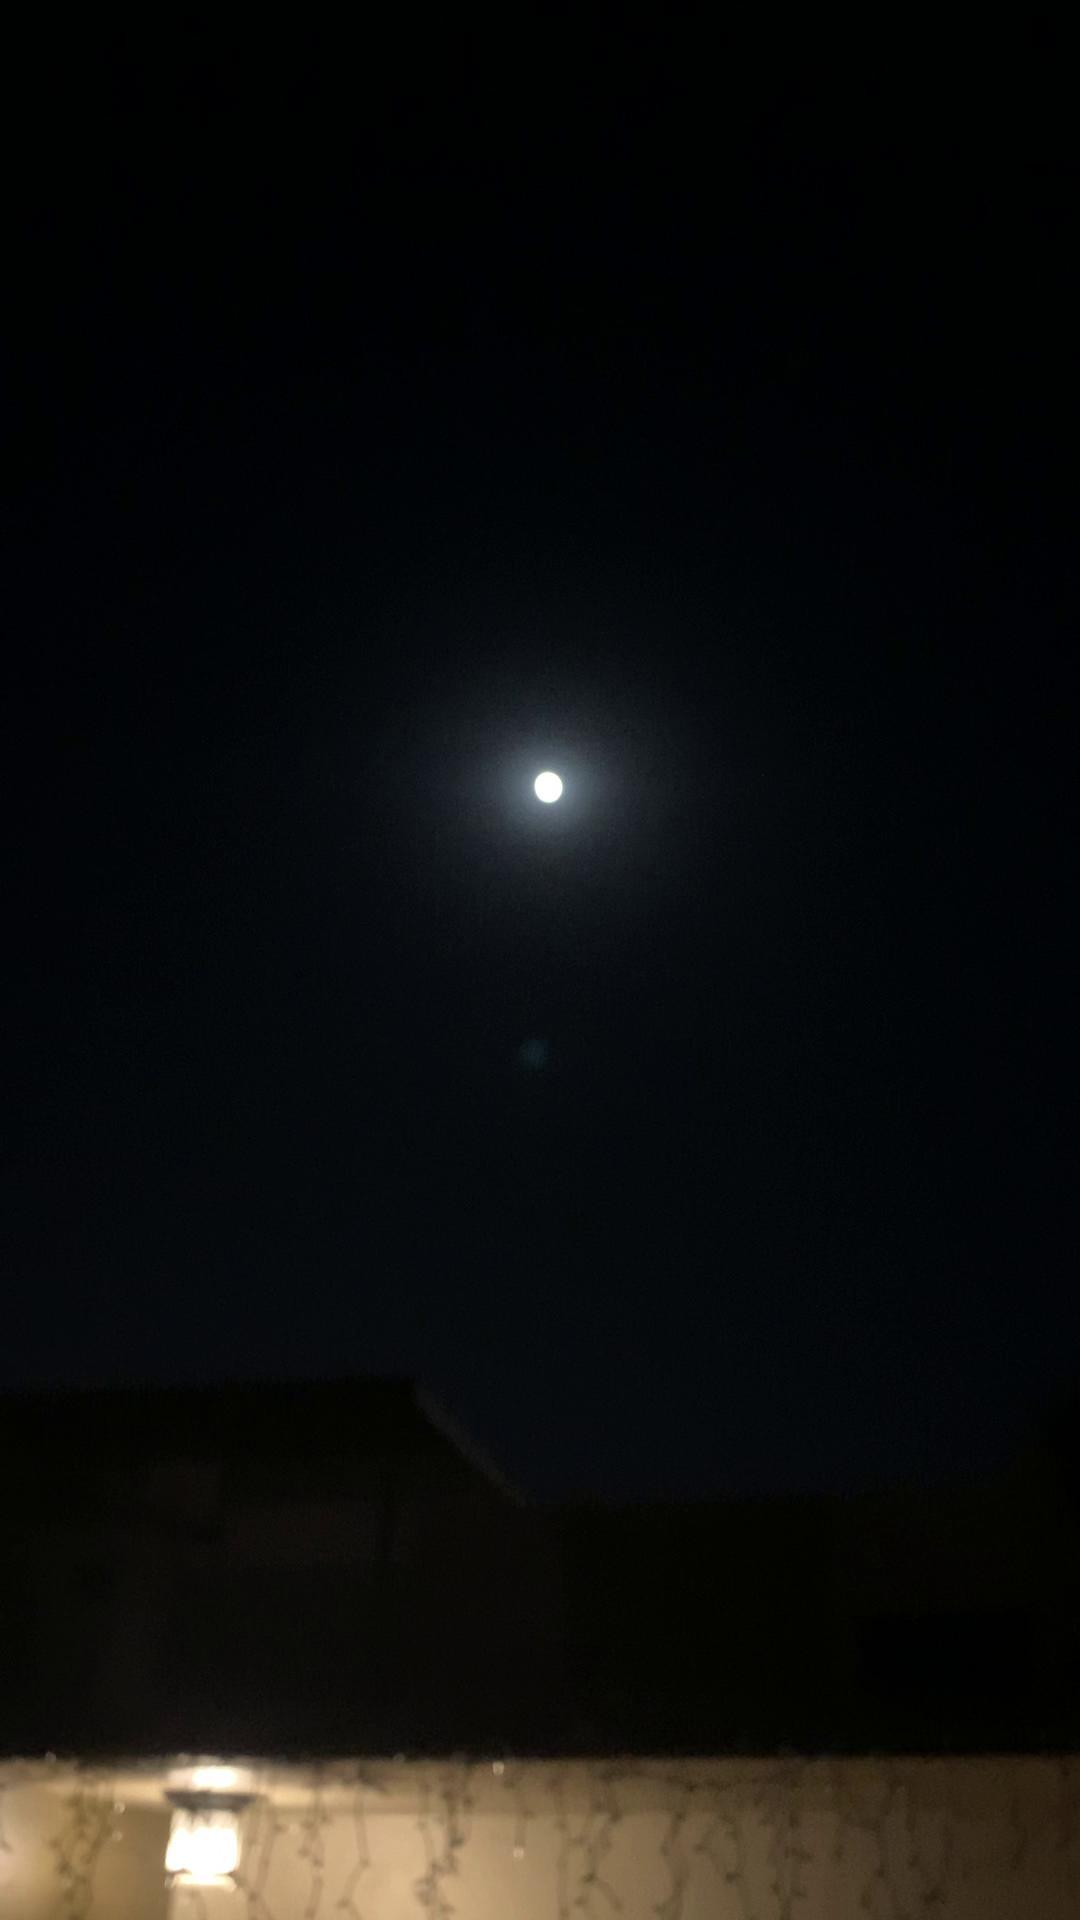moon: (506, 752, 593, 847)
